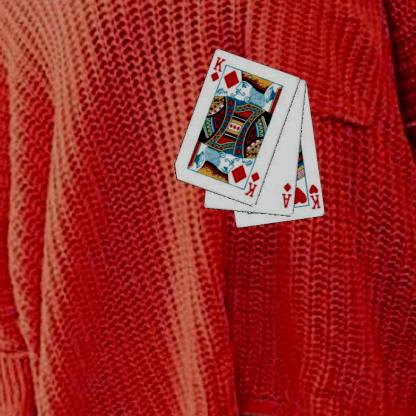AD: (279, 180, 293, 209)
KD: (242, 169, 261, 199), (208, 54, 227, 83)
KH: (306, 182, 322, 210)
